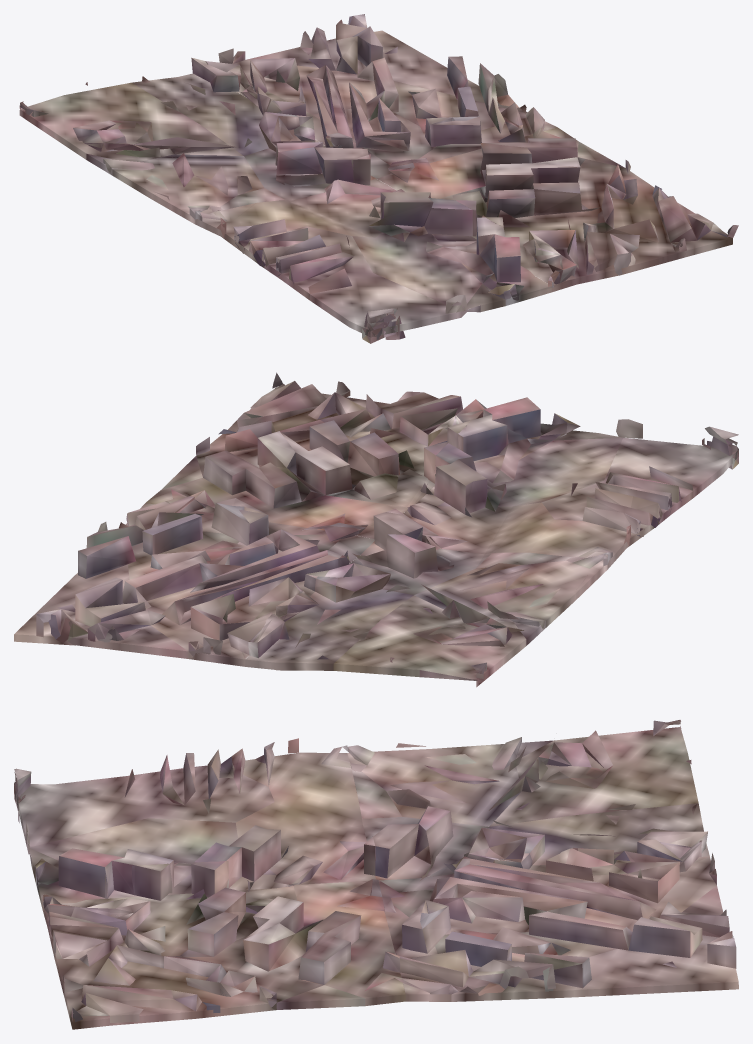
3 renders of one model, top to bottom at view 1: azimuth 30°, elevation 25°; view 2: azimuth 150°, elevation 25°; view 3: azimuth 270°, elevation 25°, orthographic. The views are drawn at different scales.
Visible parts, largest first — view 1: Mesh_0; view 2: Mesh_0; view 3: Mesh_0.
Boxes of the visible parts, x1,y1,x2,y2 form: Mesh_0: (19,14,738,343); Mesh_0: (14,372,738,687); Mesh_0: (14,720,738,1029).
Bounding box in the file's own units: 548 × 63.1 × 659.
Materials: 1 (1 with a texture image).
